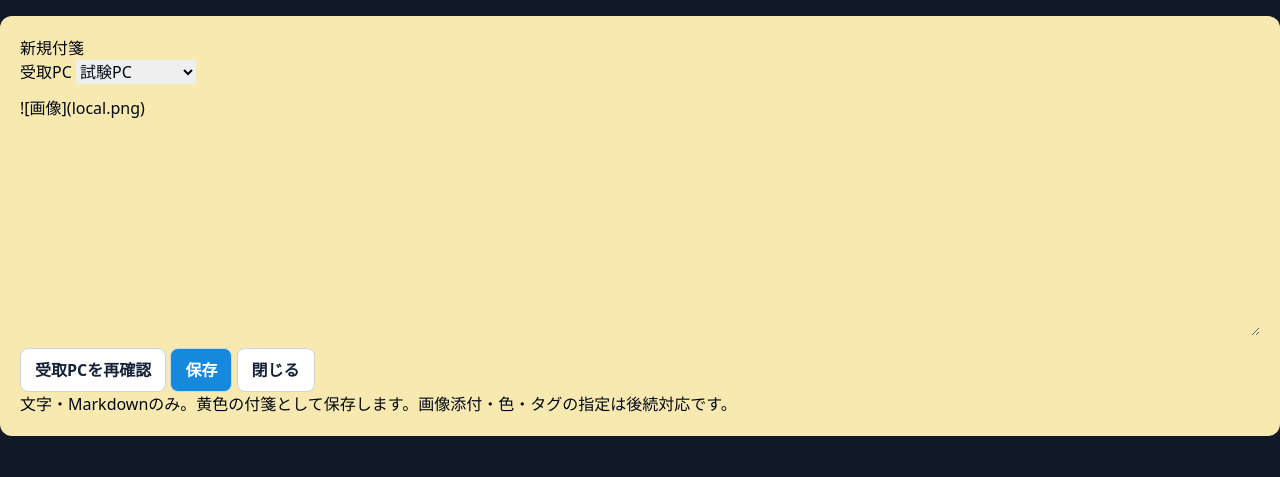
it: minimal Web creation › restores account-scoped drafts and refuses image markup without freezing input
Click the button "保存": coordinates (201, 370) [170,348,232,392]
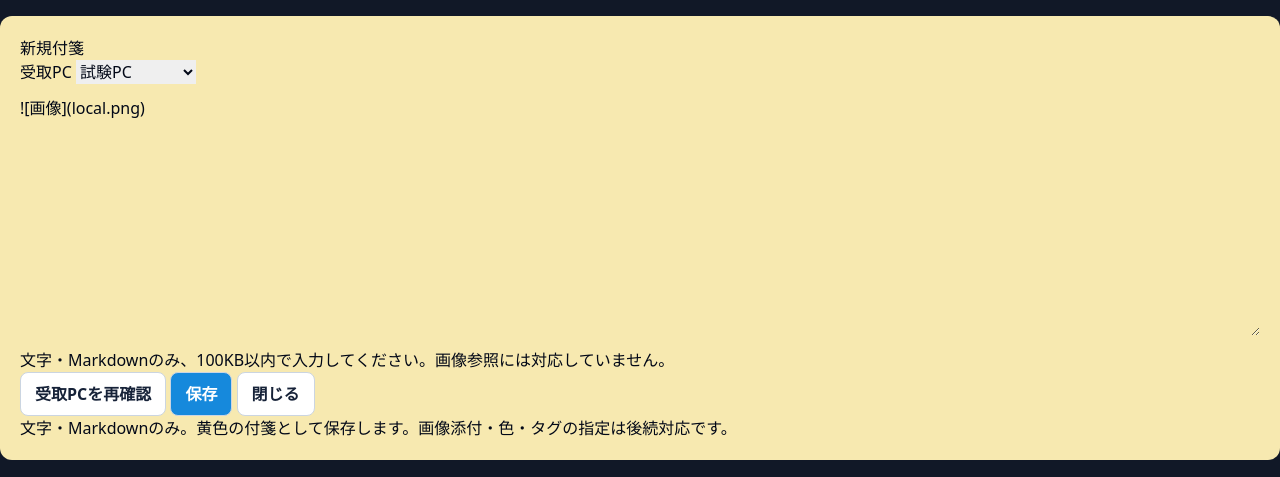
Expected: the text box named "新規付箋の本文" is enabled, [20,96,1260,336]
Expected: the text "文字・Markdownのみ、100KB以内で入力してください。画像参照には対応していません。" is shown, [20,349,674,371]
